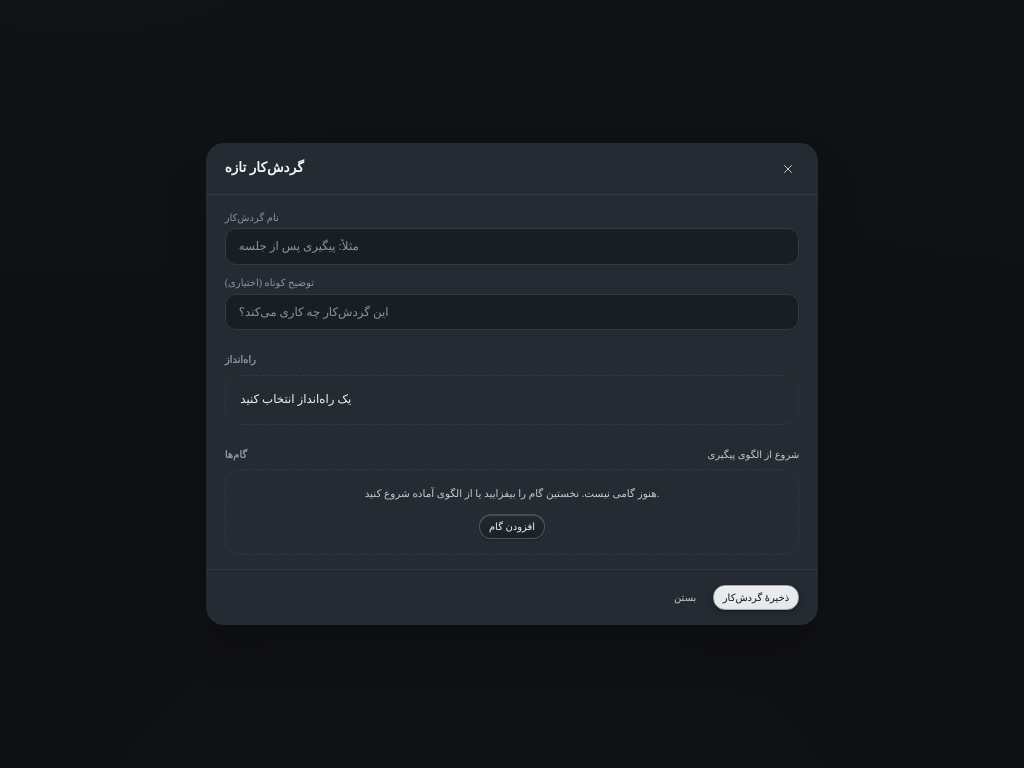
Test case: the workflow builder › renders the server's refusal verbatim
Click the button "افزودن گام": [512, 527] box [479,514,545,539]
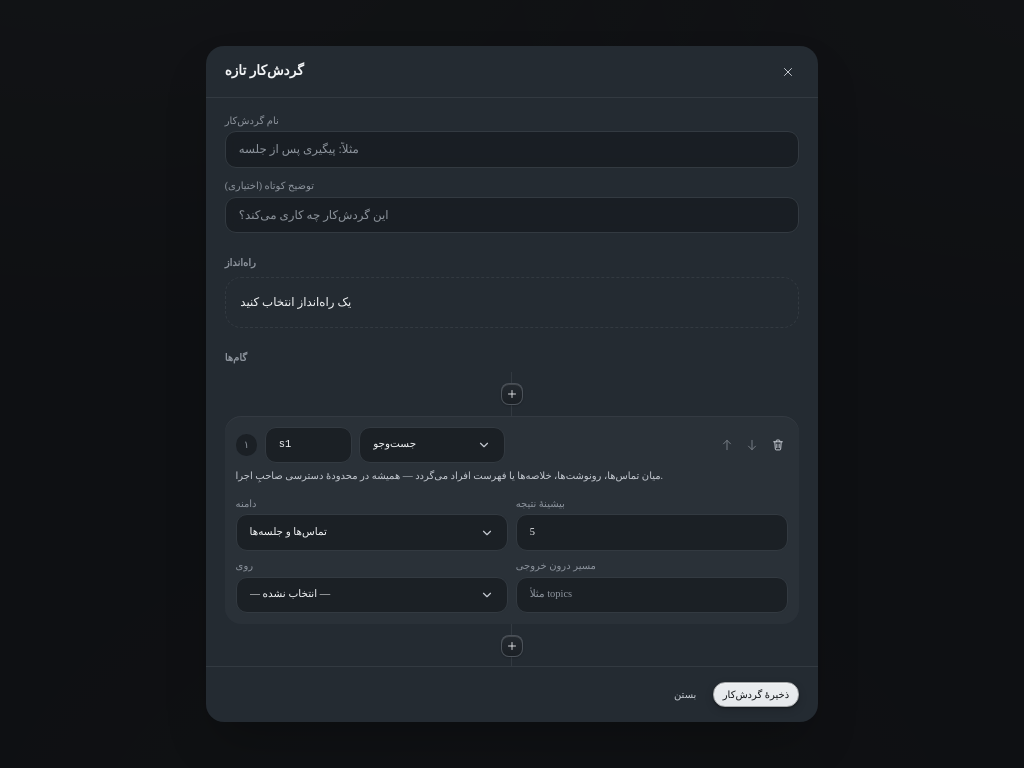
Click the button "ذخیرهٔ گردش‌کار": [756, 695] box [713,682,799,707]
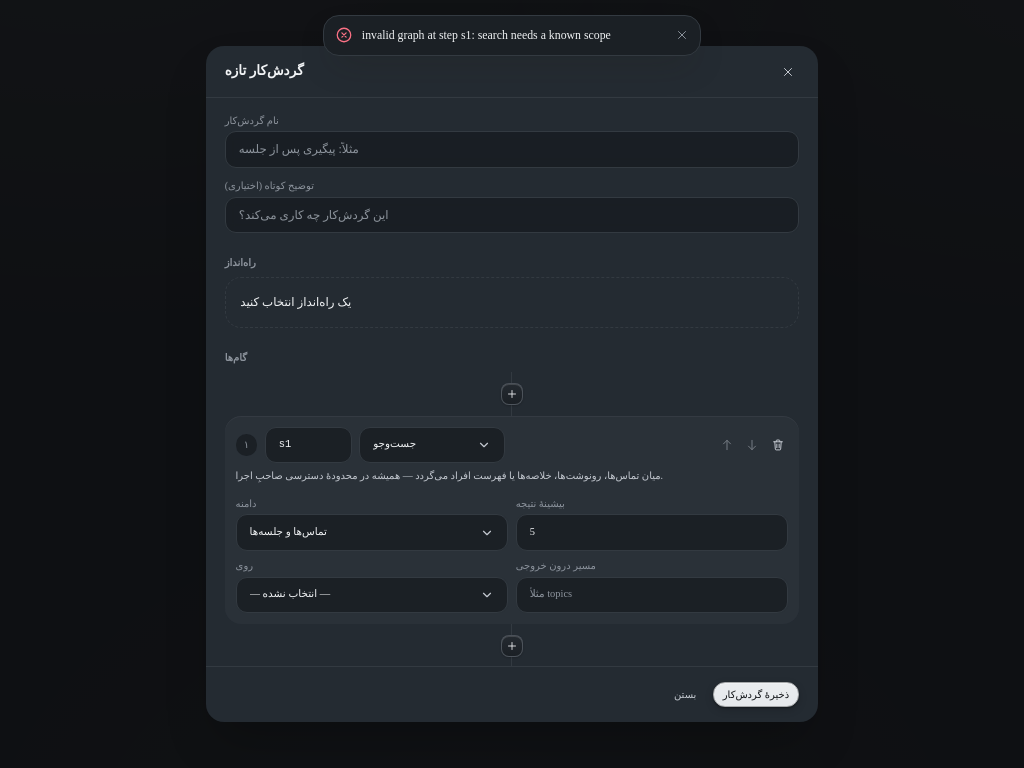
Check: the message reads "invalid graph at step s1: search needs a known scope", box [362,28,611,42]
